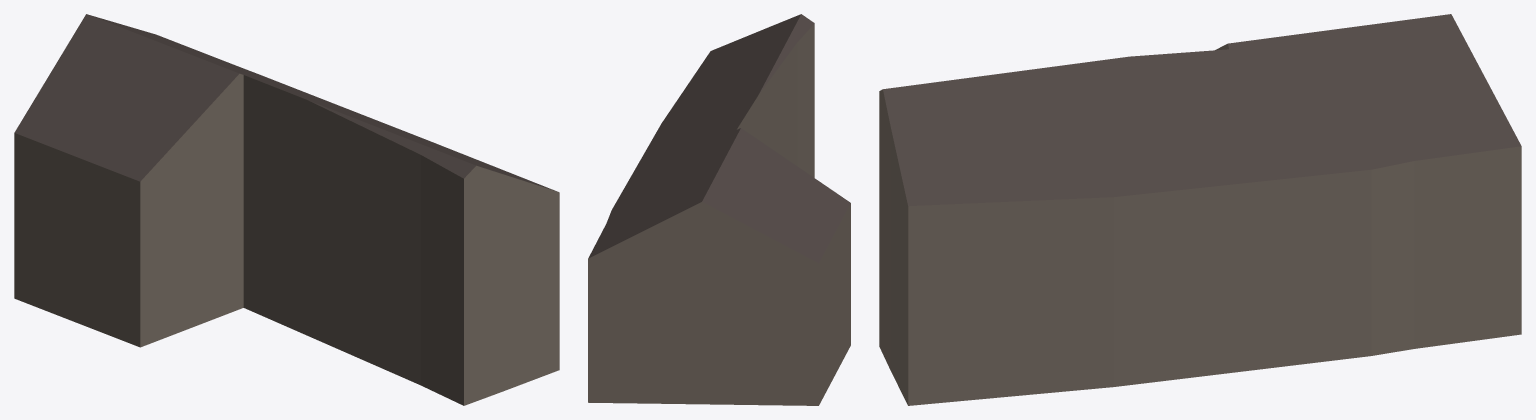
The picture shows the model from 3 angles, left to right: view 1: azimuth 30°, elevation 25°; view 2: azimuth 150°, elevation 25°; view 3: azimuth 270°, elevation 25°; orthographic projection. The views are drawn at different scales.
Visible parts, largest first — view 1: HP-w1198842236; view 2: HP-w1198842236; view 3: HP-w1198842236.
Part boxes in pixels (box(x1,y1,x2,y2)): HP-w1198842236: box(14, 14, 559, 405); HP-w1198842236: box(588, 14, 850, 405); HP-w1198842236: box(879, 14, 1521, 405).
Size of the model in its own units: 12.71 by 8.53 by 18.75.
